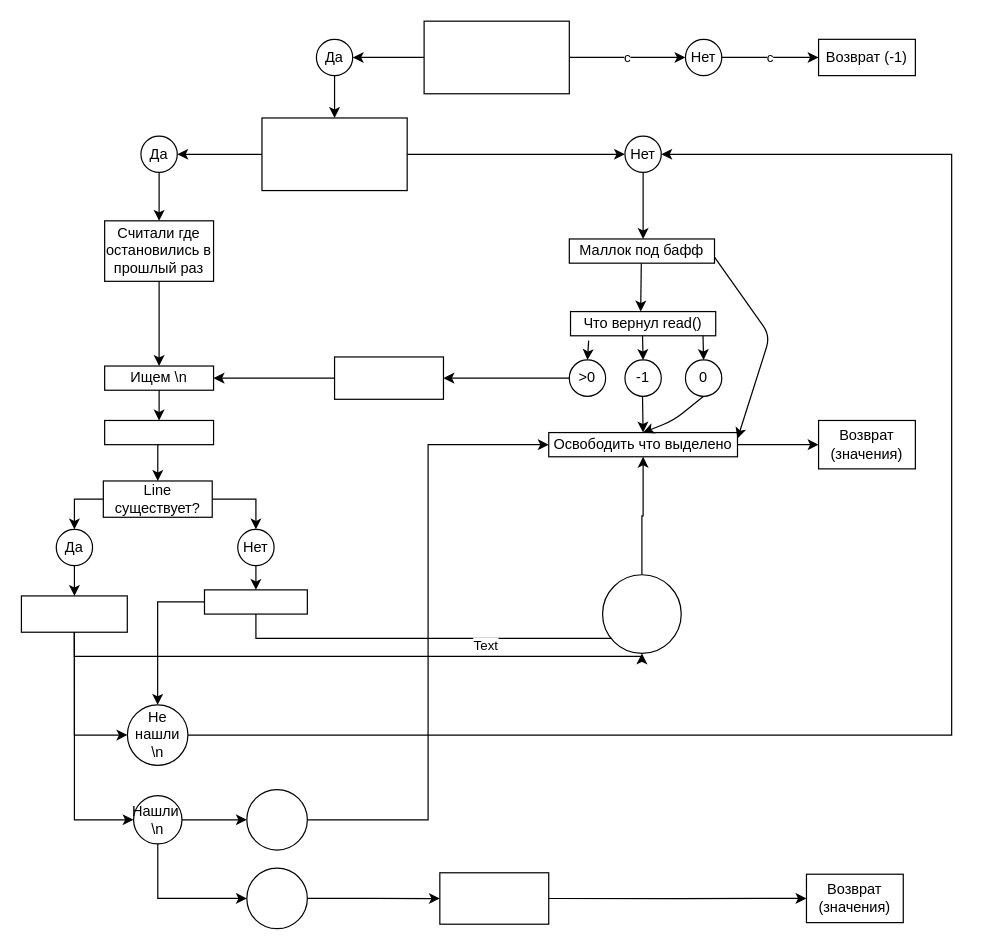
This 983x950 diagram has some shape labels left out. The shapes that lost their labels are listed below. From the top down, each one's centre as x and y in pixels, then its label:
At (496,57): "Проверка на валидность кейса".
At (334,154): "Остался ли остаток с прошлого вызова if(!buff)".
At (388,377): "запись в бафф по реад /0".
At (158,432): "Меняем на \0".
At (73,613): "Прибавка к лайну".
At (255,601): "Dup под лайн".
At (641,613): "Проблема с маллок".
At (276,819): "Нет остатка".
At (276,898): "Есть остаток".
At (494,898): "Сдвинуть указатель на начало".
